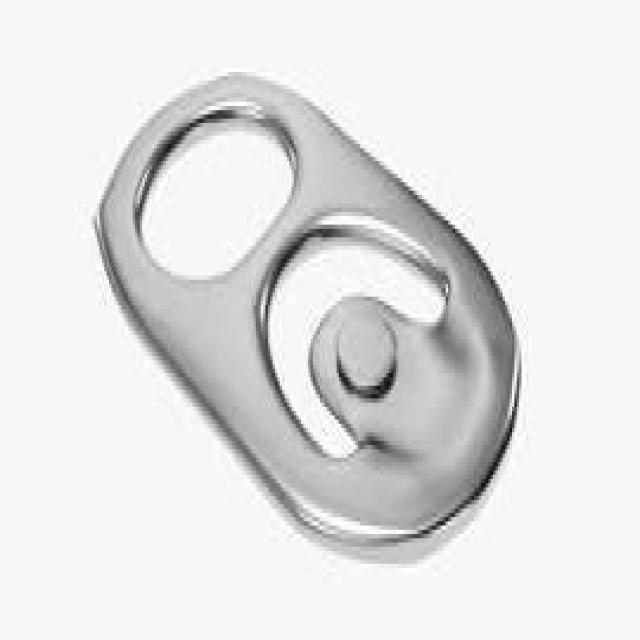pop tab: (93, 68, 525, 560)
